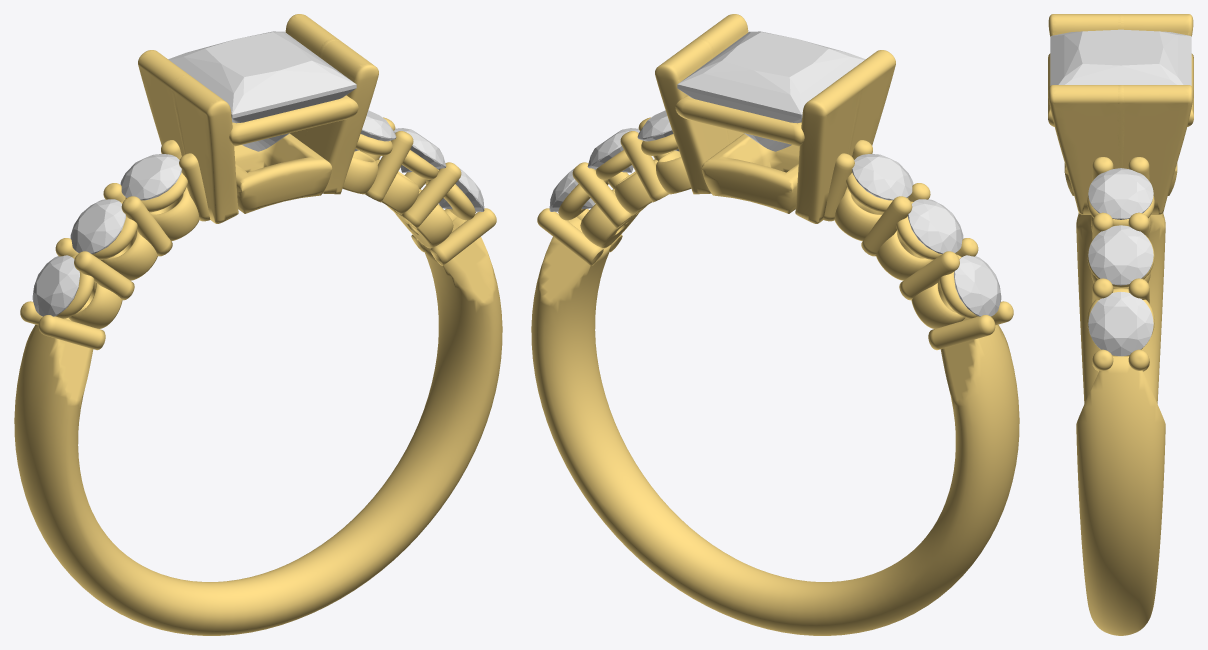
Rendered from diamond-princess-yellowgold-halfmoonbezel-taperedband-7stone.glb.
3 renders of one model, left to right at view 1: azimuth 30°, elevation 25°; view 2: azimuth 150°, elevation 25°; view 3: azimuth 270°, elevation 25°, orthographic.
Parts seen in each view (by area): view 1: metal, stone, side.001, side, side.002, side.004, side.003, side.005; view 2: metal, stone, side.001, side, side.002, side.004, side.003; view 3: metal, stone, side.005, side.004, side.003.
Part boxes in pixels (left/top/right/bottom): metal: left=14, top=14, right=502, bottom=635; stone: left=168, top=31, right=356, bottom=151; side.001: left=70, top=199, right=125, bottom=253; side: left=32, top=255, right=79, bottom=316; side.002: left=120, top=154, right=181, bottom=200; side.004: left=394, top=128, right=446, bottom=172; side.003: left=354, top=110, right=396, bottom=151; side.005: left=438, top=168, right=484, bottom=211; metal: left=531, top=14, right=1019, bottom=635; stone: left=677, top=31, right=865, bottom=151; side.001: left=908, top=199, right=963, bottom=253; side: left=954, top=255, right=1001, bottom=316; side.002: left=852, top=154, right=913, bottom=200; side.004: left=587, top=128, right=639, bottom=172; side.003: left=637, top=110, right=679, bottom=151; metal: left=1048, top=14, right=1193, bottom=635; stone: left=1050, top=29, right=1191, bottom=85; side.005: left=1088, top=292, right=1153, bottom=356; side.004: left=1088, top=225, right=1153, bottom=285; side.003: left=1088, top=168, right=1153, bottom=219.
Bounding box in the file's own units: 20.49 × 23.85 × 5.6.
